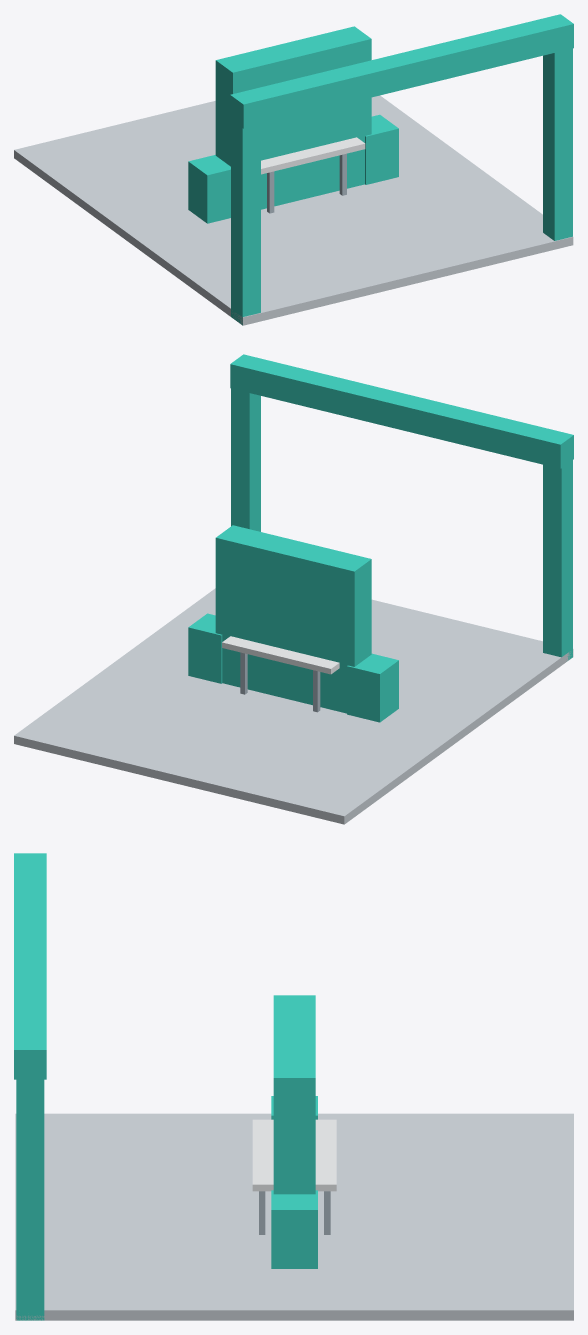
The picture shows the model from 3 angles, top to bottom: view 1: azimuth 30°, elevation 25°; view 2: azimuth 150°, elevation 25°; view 3: azimuth 270°, elevation 25°; orthographic projection. The views are drawn at different scales.
Visible parts, largest first — view 1: Exhibition Booth Concept; view 2: Exhibition Booth Concept; view 3: Exhibition Booth Concept.
Part boxes in pixels (x1,y1,x2,y2): Exhibition Booth Concept: (14,14,573,325); Exhibition Booth Concept: (14,354,573,824); Exhibition Booth Concept: (14,853,573,1320).
Bounding box in the file's own units: 5 × 3.2 × 6.02.
